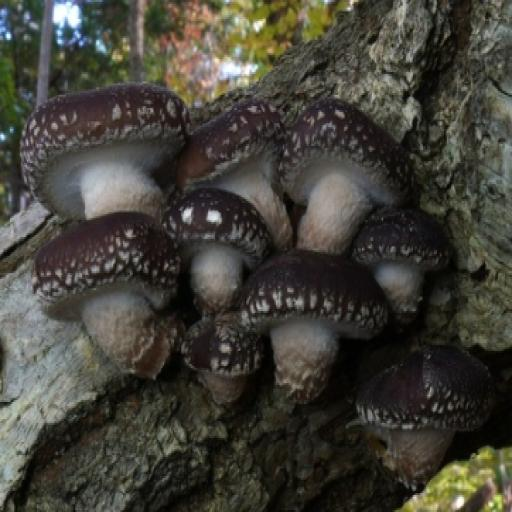Shiitake Mushroom: (0, 79, 458, 425)
